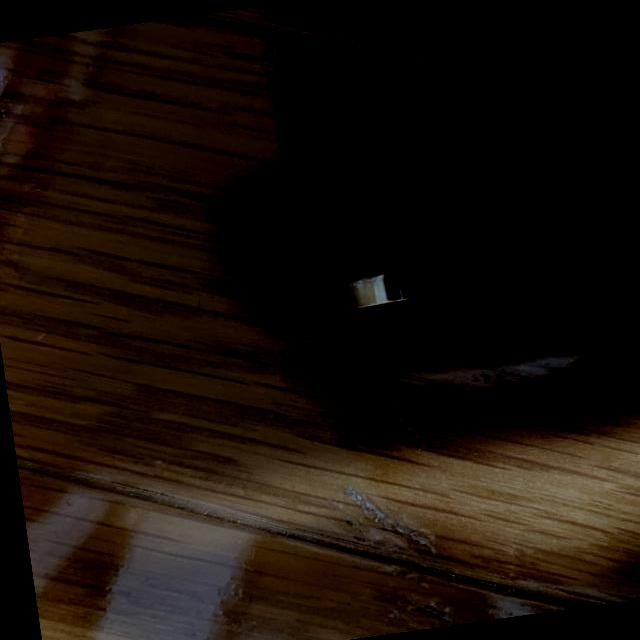COIN: (337, 260, 430, 312)
